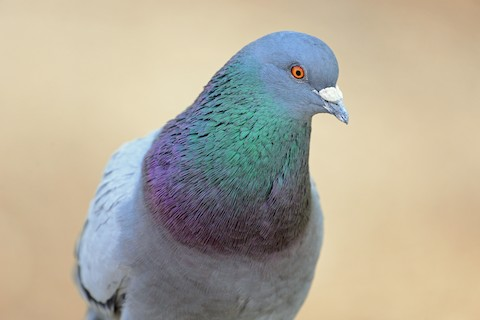pigeon: (65, 27, 354, 316)
